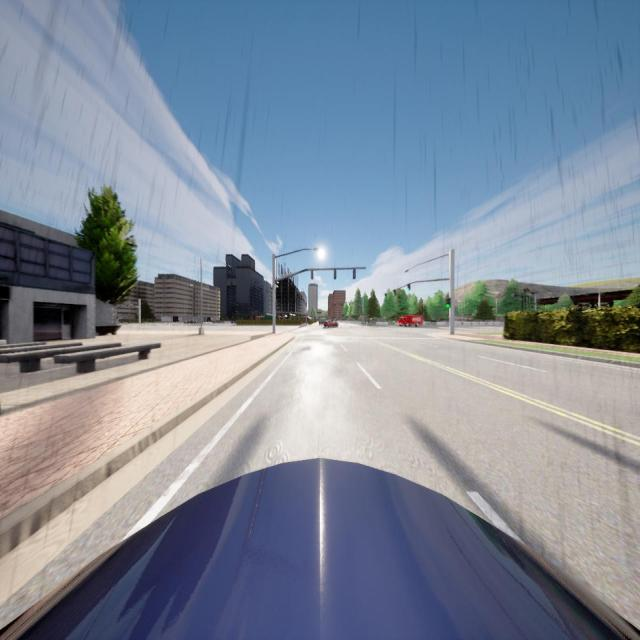Vehicle: (0, 455, 640, 640), (397, 314, 423, 327), (324, 319, 339, 328), (318, 316, 326, 325)
traffic_light: (446, 298, 451, 308), (352, 269, 356, 279), (311, 270, 313, 279), (334, 270, 336, 279), (394, 290, 396, 296), (408, 284, 410, 290), (385, 294, 387, 298)
